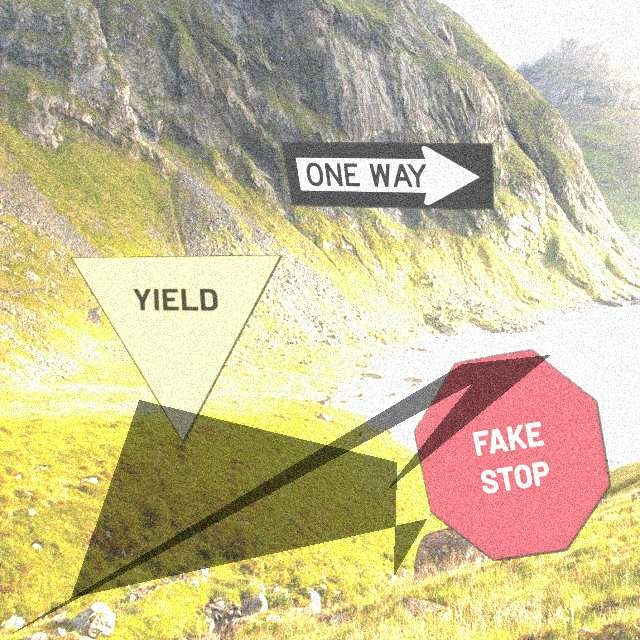FAKE_STOP: (413, 348, 611, 561)
ONE_WAY_ right: (281, 141, 494, 210)
YIELD: (70, 254, 283, 444)
